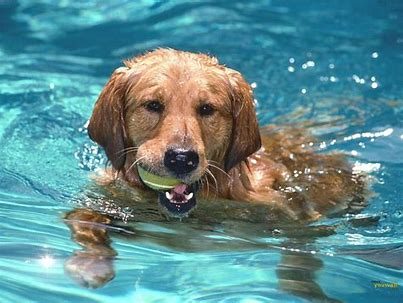dog: (43, 44, 359, 292)
